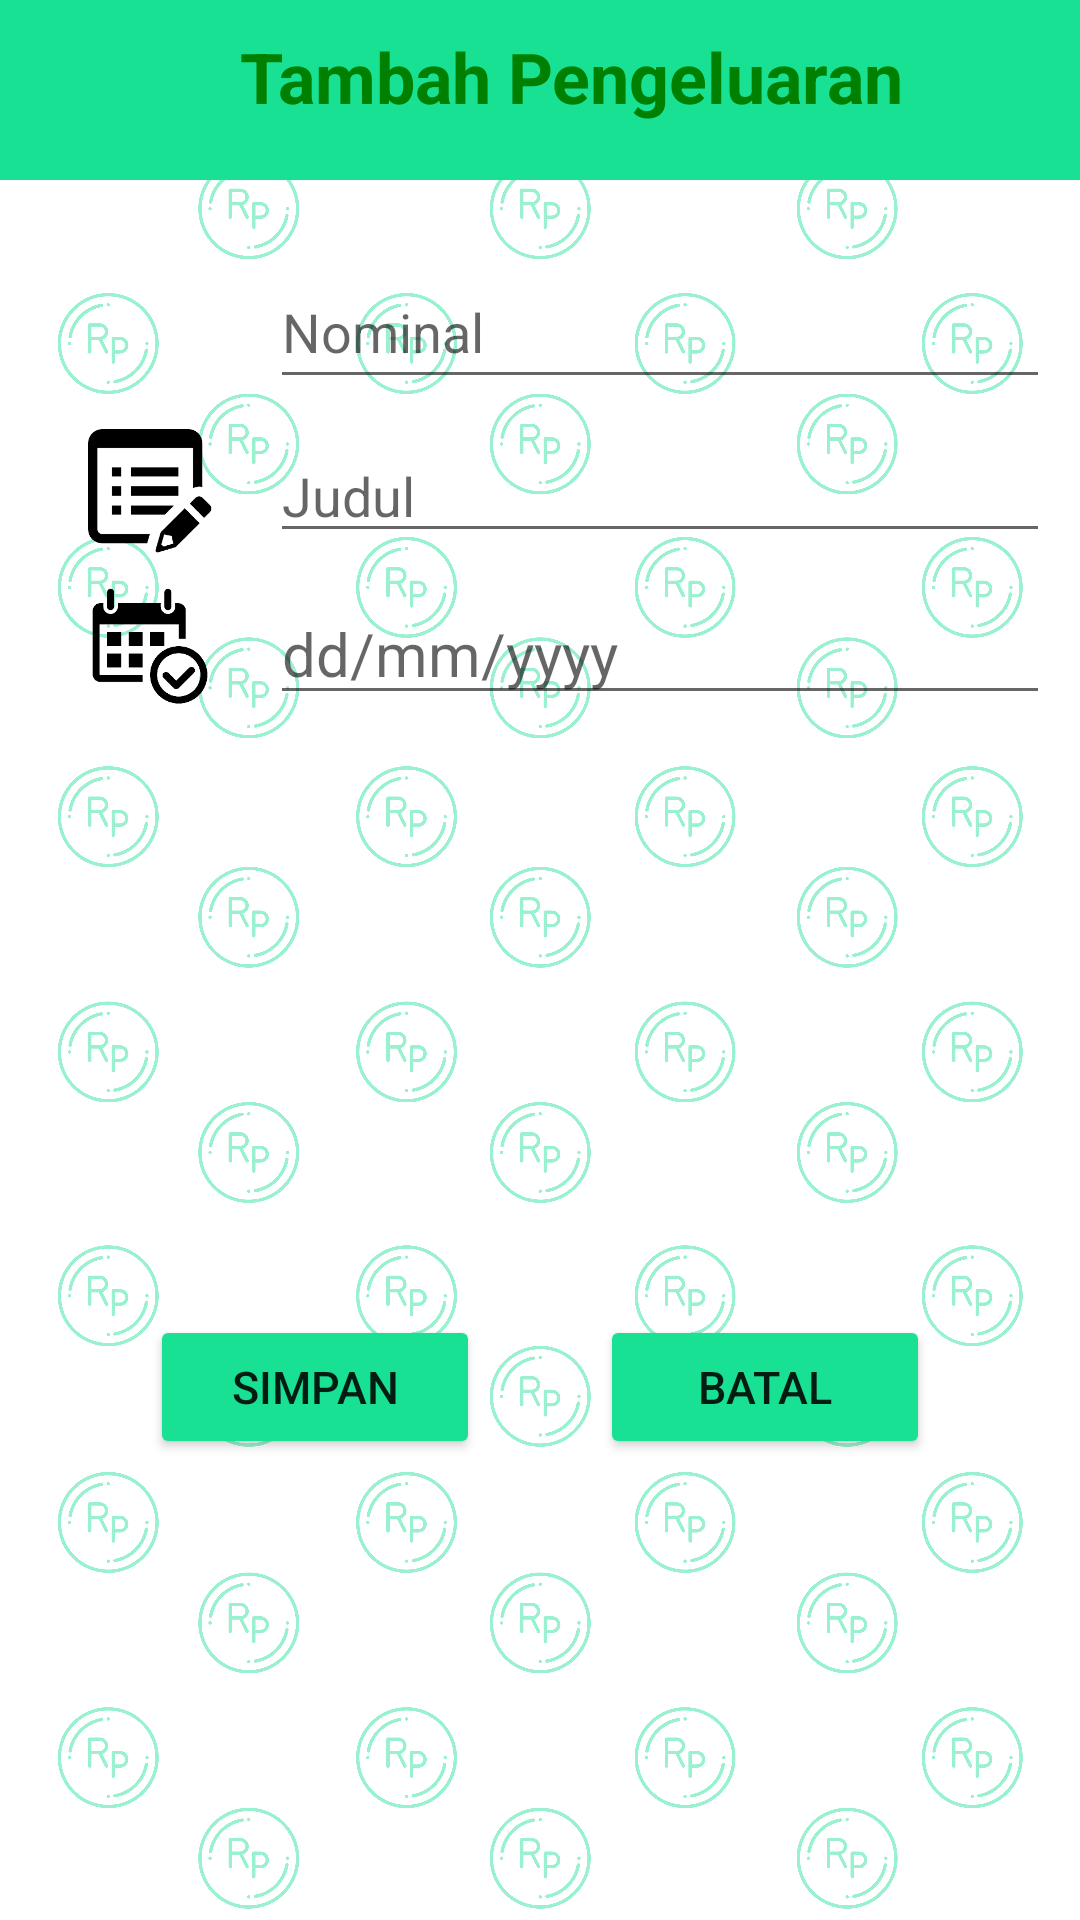

Screen size 1080x1920. Icon name, then its box in pixels as [x1, y1, x2, y2]:
calendar: [58, 583, 270, 715]
